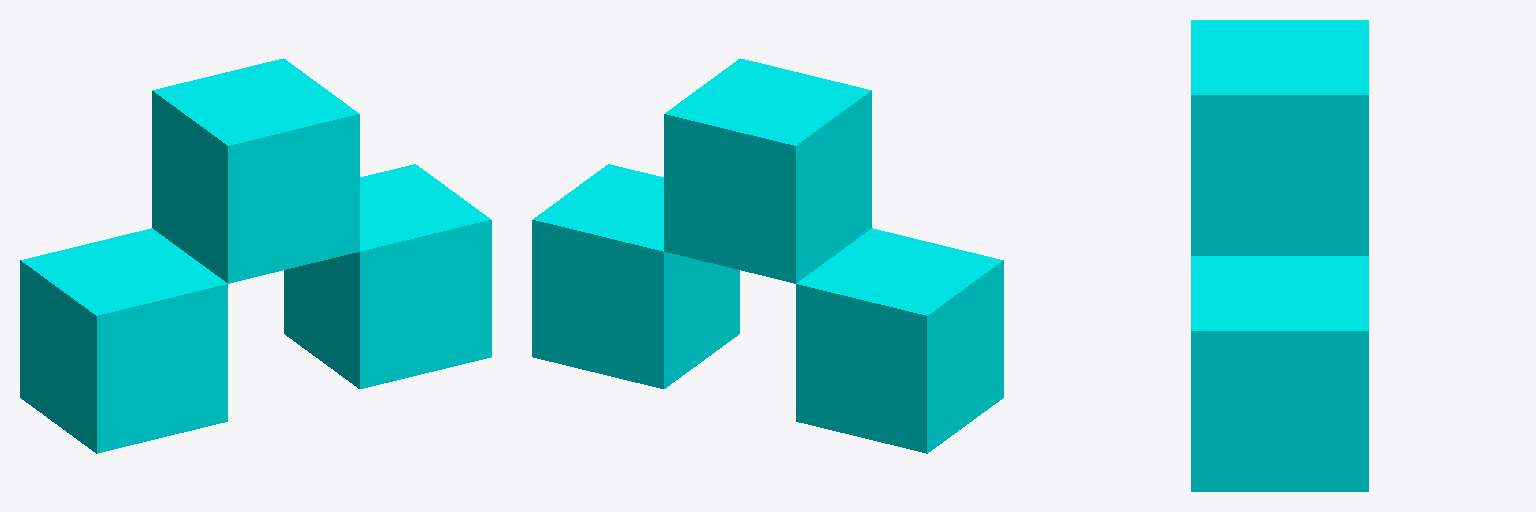
URDF robot description (robot):
<robot name = "robot">
    <link name="Torso">
        <inertial>
            <origin xyz="1.5 0 1.5" rpy="0 0 0"/>
            <mass value="1" />
            <inertia ixx="100" ixy="0" ixz="0" iyy="100" iyz="0" izz="100" />
        </inertial>
        <visual>
            <origin xyz="1.5 0 1.5" rpy="0 0 0"/>
            <geometry>
                <box size="1 1 1" />
            </geometry>
            <material name="Cyan">
                <color rgba="0 1.0 1.0 1.0"/>
            </material>
        </visual>
        <collision>
            <origin xyz="1.5 0 1.5" rpy="0 0 0"/>
            <geometry>
                <box size="1 1 1" />
            </geometry>
        </collision>
    </link>
    <joint name="Torso_FrontLeg" type="revolute">
       <parent link="Torso"/>
       <child  link="FrontLeg"/>
       <origin rpy="0 0 0" xyz="2.0 0 1.0" />
       <axis xyz="0 1 0"/>
       <limit effort="0.0" lower="-3.14159" upper="3.14159" velocity="0.0"/>
    </joint>
    <link name="FrontLeg">
        <inertial>
            <origin xyz="0.5 0 -0.5" rpy="0 0 0"/>
            <mass value="1" />
            <inertia ixx="100" ixy="0" ixz="0" iyy="100" iyz="0" izz="100" />
        </inertial>
        <visual>
            <origin xyz="0.5 0 -0.5" rpy="0 0 0"/>
            <geometry>
                <box size="1 1 1" />
            </geometry>
            <material name="Cyan">
                <color rgba="0 1.0 1.0 1.0"/>
            </material>
        </visual>
        <collision>
            <origin xyz="0.5 0 -0.5" rpy="0 0 0"/>
            <geometry>
                <box size="1 1 1" />
            </geometry>
        </collision>
    </link>
    <joint name="Torso_BacktLeg" type="revolute">
       <parent link="Torso"/>
       <child  link="BackLeg"/>
       <origin rpy="0 0 0" xyz="1.0 0 1.0" />
       <axis xyz="0 1 0"/>
       <limit effort="0.0" lower="-3.14159" upper="3.14159" velocity="0.0"/>
    </joint>
    <link name="BackLeg">
        <inertial>
            <origin xyz="-0.5 0 -0.5" rpy="0 0 0"/>
            <mass value="1" />
            <inertia ixx="100" ixy="0" ixz="0" iyy="100" iyz="0" izz="100" />
        </inertial>
        <visual>
            <origin xyz="-0.5 0 -0.5" rpy="0 0 0"/>
            <geometry>
                <box size="1 1 1" />
            </geometry>
            <material name="Cyan">
                <color rgba="0 1.0 1.0 1.0"/>
            </material>
        </visual>
        <collision>
            <origin xyz="-0.5 0 -0.5" rpy="0 0 0"/>
            <geometry>
                <box size="1 1 1" />
            </geometry>
        </collision>
    </link>
</robot>

--- Facts derived from the render (not from the file) ---
Views: 3 orthographic renders of the robot side by side, from view 1: azimuth 30°, elevation 25°; view 2: azimuth 150°, elevation 25°; view 3: azimuth 270°, elevation 25°.
Model robot with 3 links and 2 joints (2 revolute), rooted at Torso, posed every joint at zero.
Links seen in each view (by area): view 1: BackLeg, Torso, FrontLeg; view 2: BackLeg, Torso, FrontLeg; view 3: Torso, FrontLeg.
Link boxes in pixels (bbox=[...]): BackLeg: bbox=[20, 228, 227, 453]; Torso: bbox=[152, 58, 359, 283]; FrontLeg: bbox=[284, 164, 491, 388]; BackLeg: bbox=[796, 228, 1003, 453]; Torso: bbox=[664, 58, 871, 283]; FrontLeg: bbox=[532, 164, 739, 388]; Torso: bbox=[1191, 20, 1368, 255]; FrontLeg: bbox=[1191, 256, 1368, 491].
Size in the robot's own frame: 3 by 1 by 2 metres.
Geometry: primitives only (box / cylinder / sphere), no mesh files.